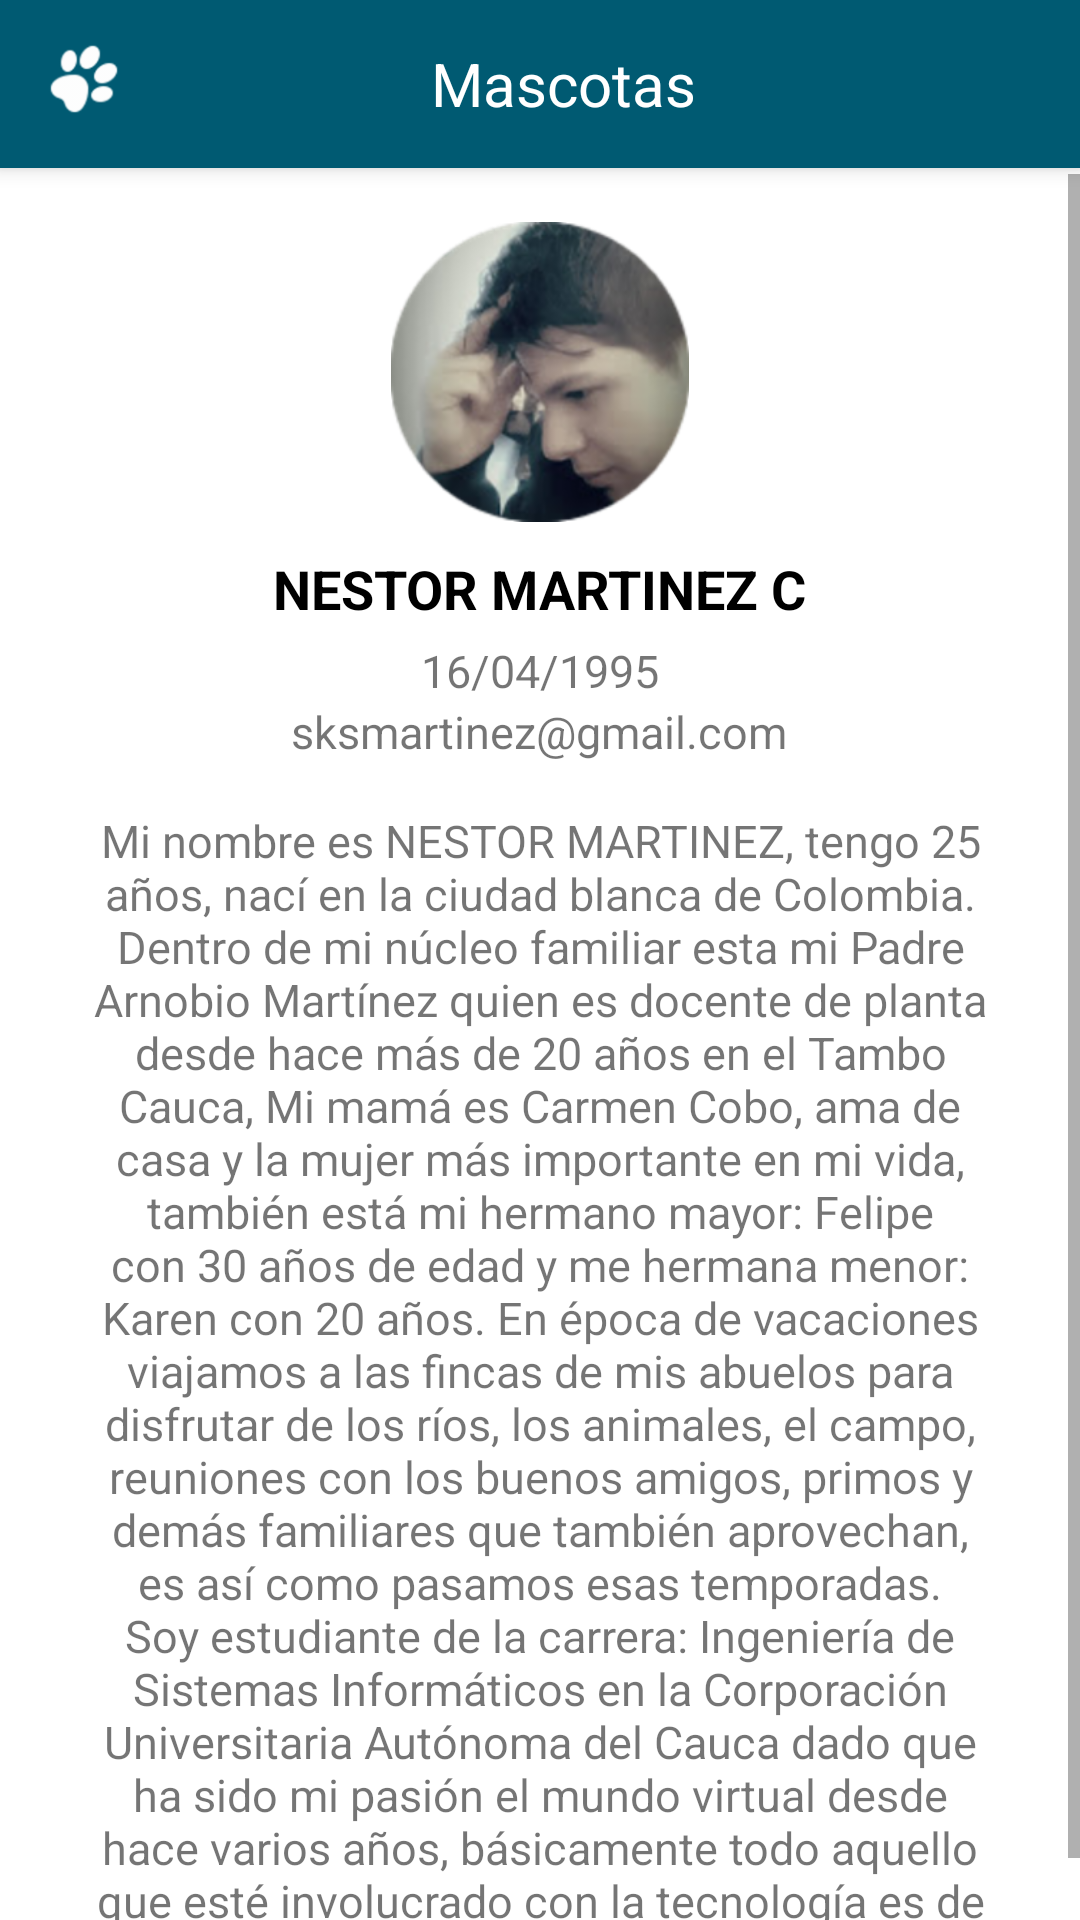

Screen size 1080*1920. Icon name, then its box in pixels as region(x1, y1, x2, y2):
mano pet: region(50, 45, 118, 113)
